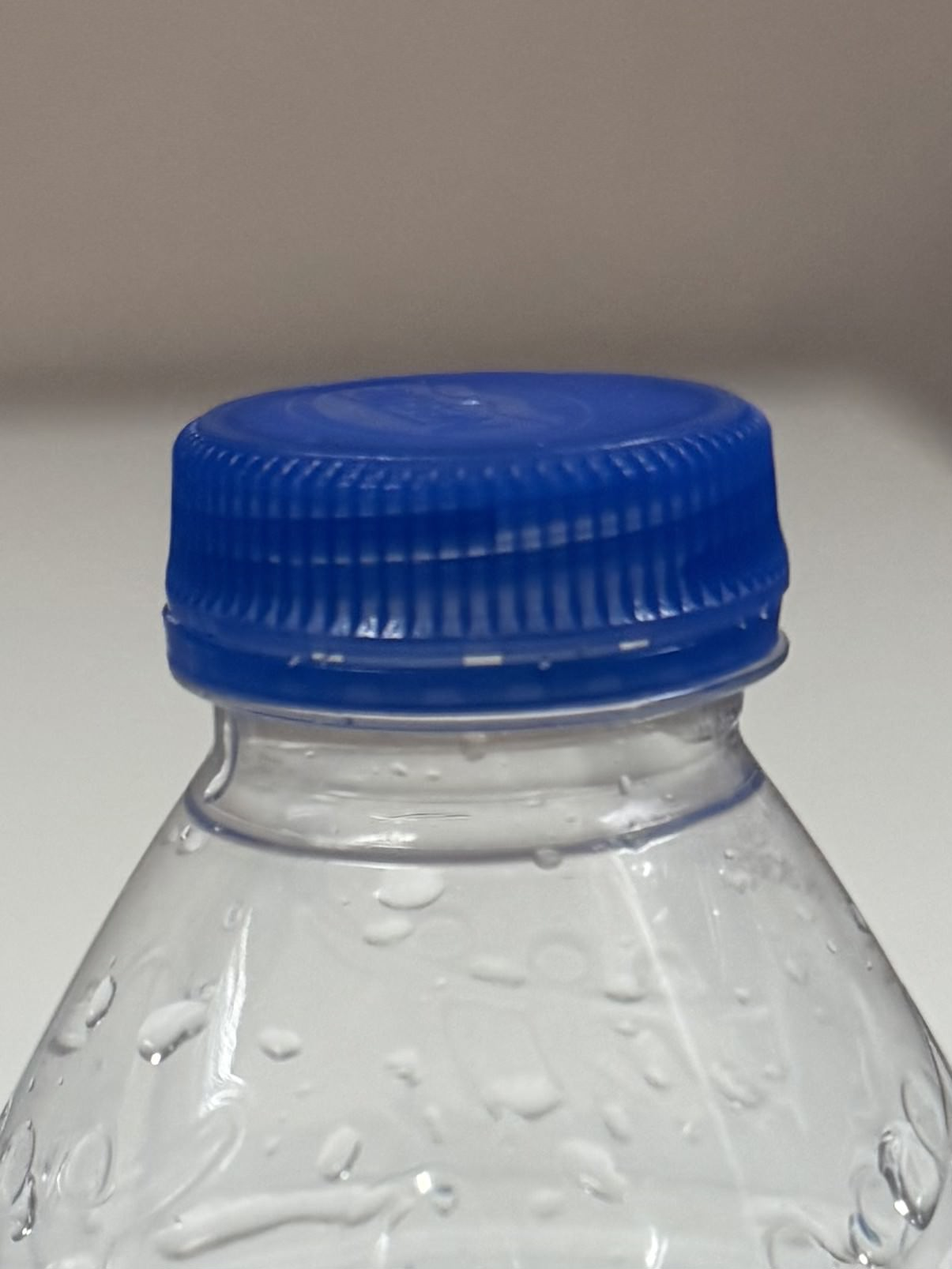closed_cap: (160, 365, 795, 725)
